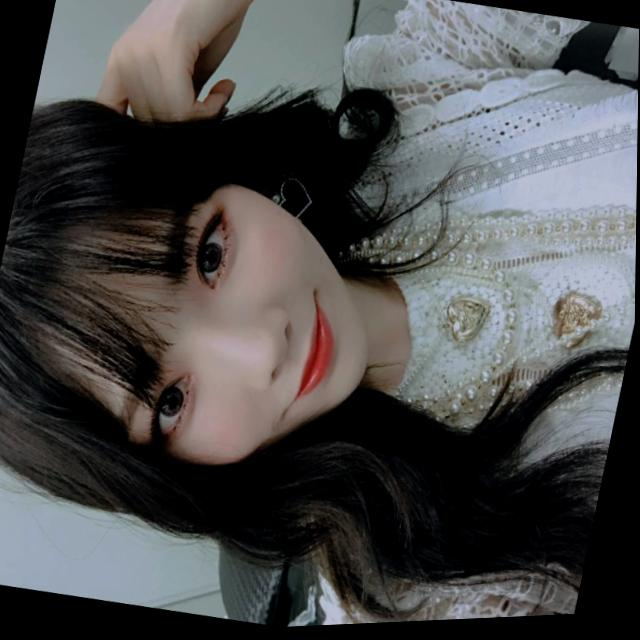face: (0, 478, 15, 559)
